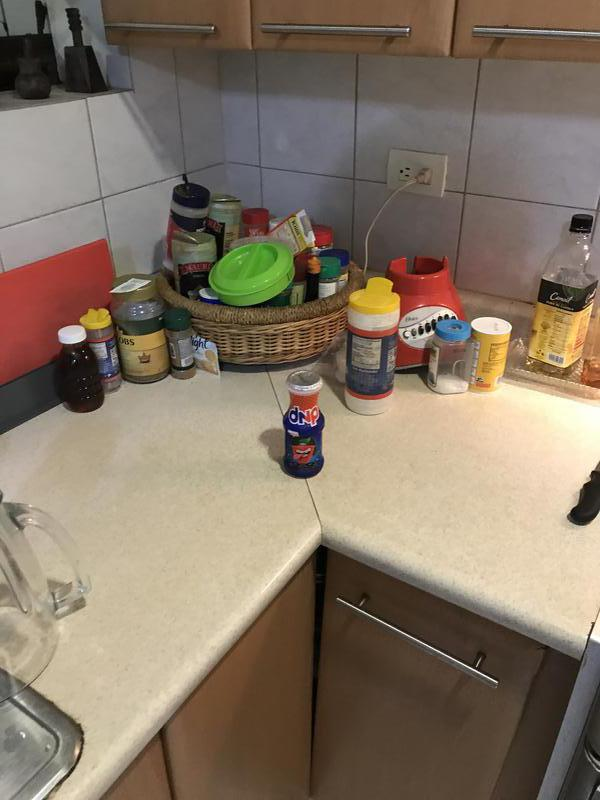danup: (281, 370, 327, 478)
